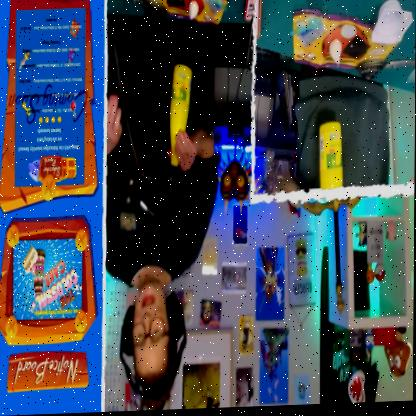streamer: (106, 14, 222, 413), (273, 64, 390, 193)
